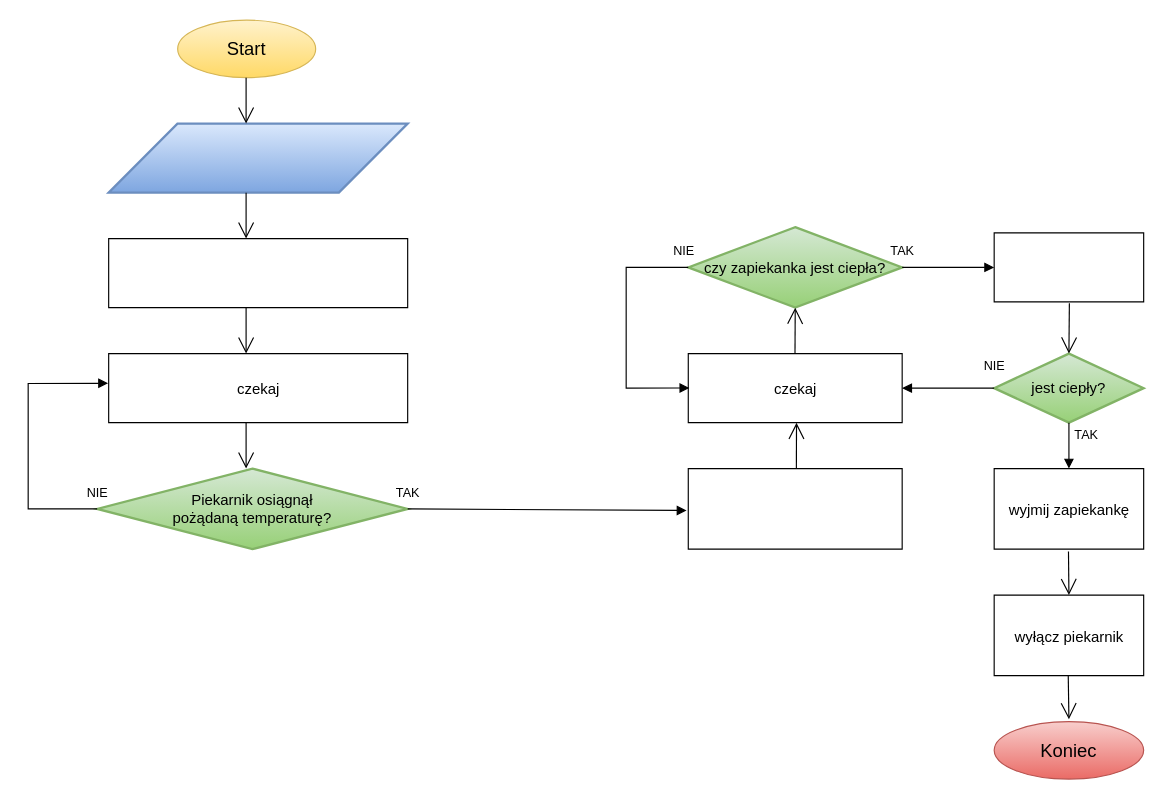
Some shapes in this 1165 by 799 pixel diagram are drawn without their labels. Here are the shapes that lost their labels. From the top down, the box of each, then its label:
(107, 122, 408, 193): przygotuj mrożoną zapiekankę
(108, 237, 408, 308): włącz piekarnik
(993, 232, 1144, 302): sprawdź środek zapiekanki
(687, 467, 902, 549): włóż mrożoną zapiekankę do piekarnika
